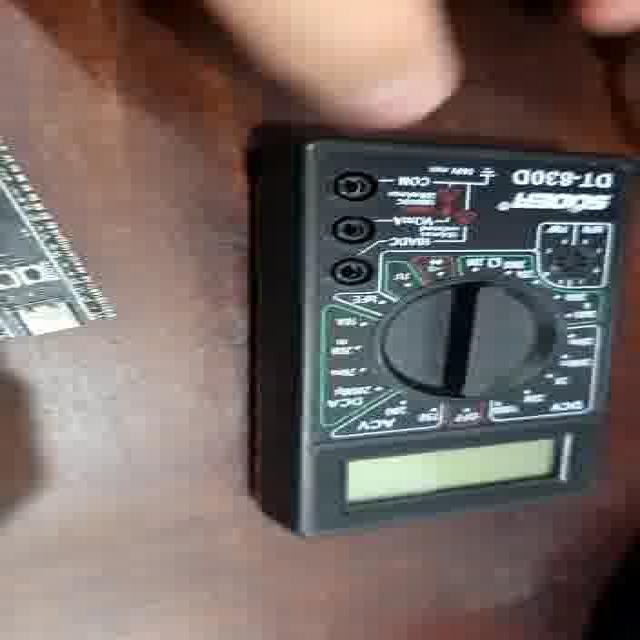multimeter: (270, 132, 637, 542)
